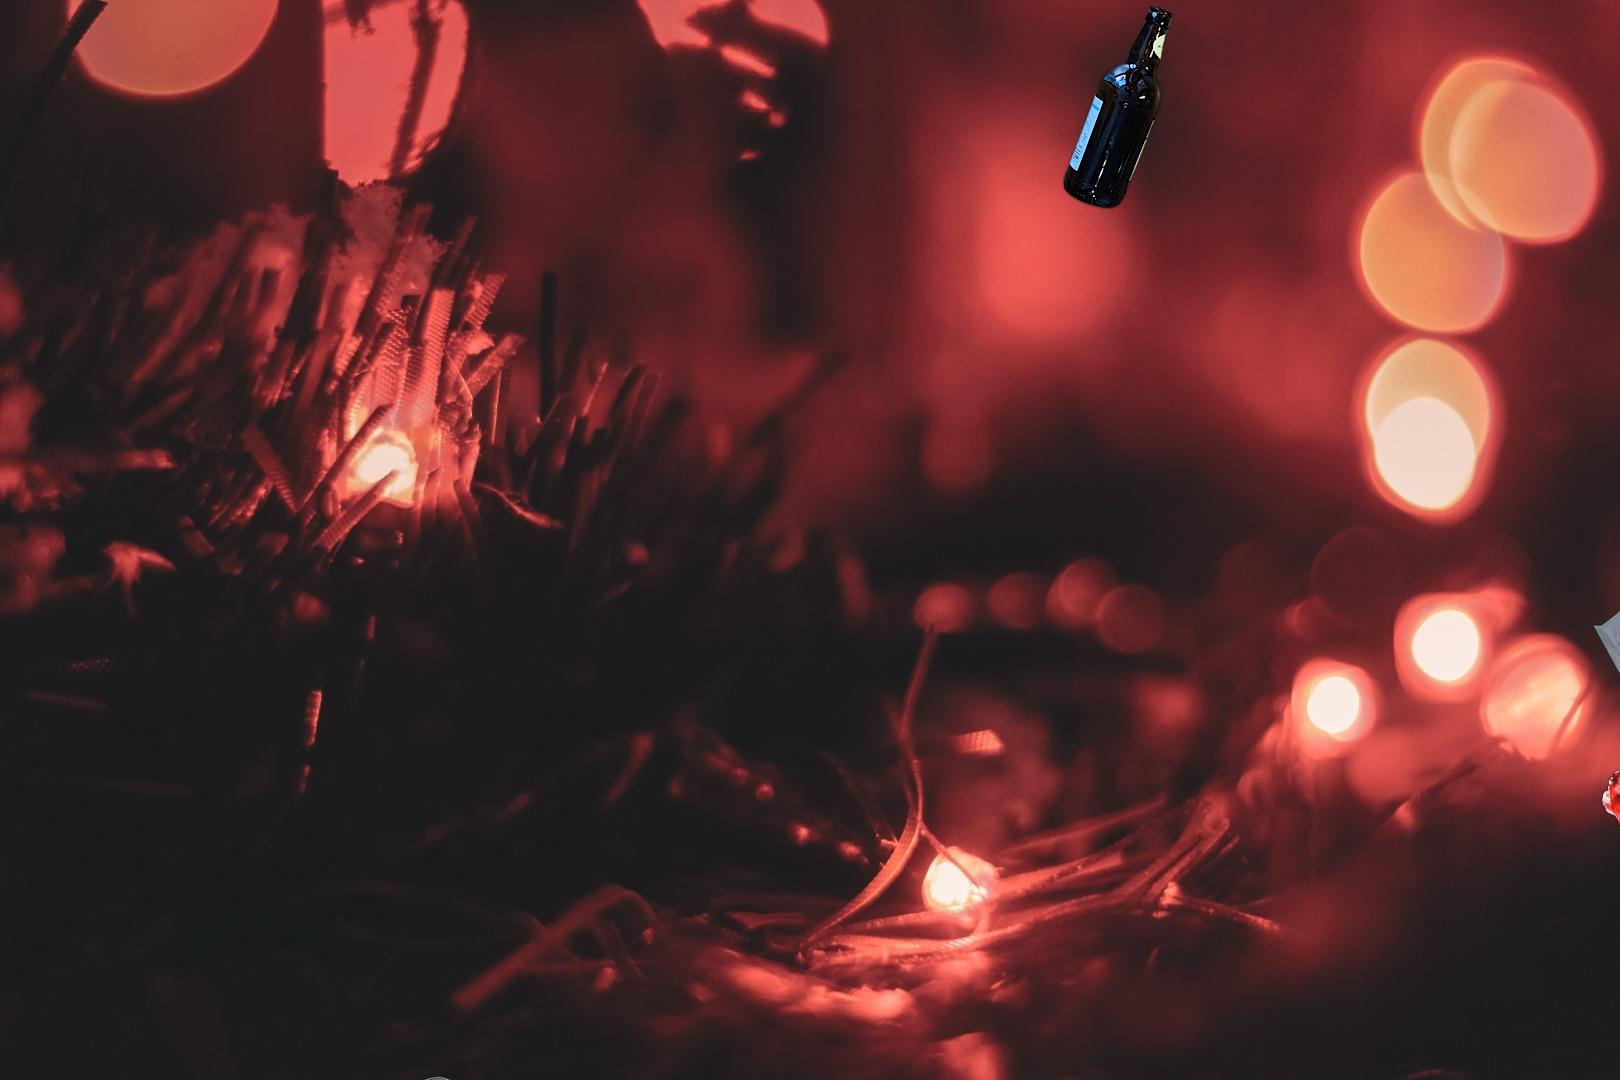glass: (1060, 1, 1178, 215)
metal-cans: (673, 1008, 1185, 1080)
plastic-bag: (1591, 532, 1620, 832)
shoes: (377, 1072, 517, 1080)
